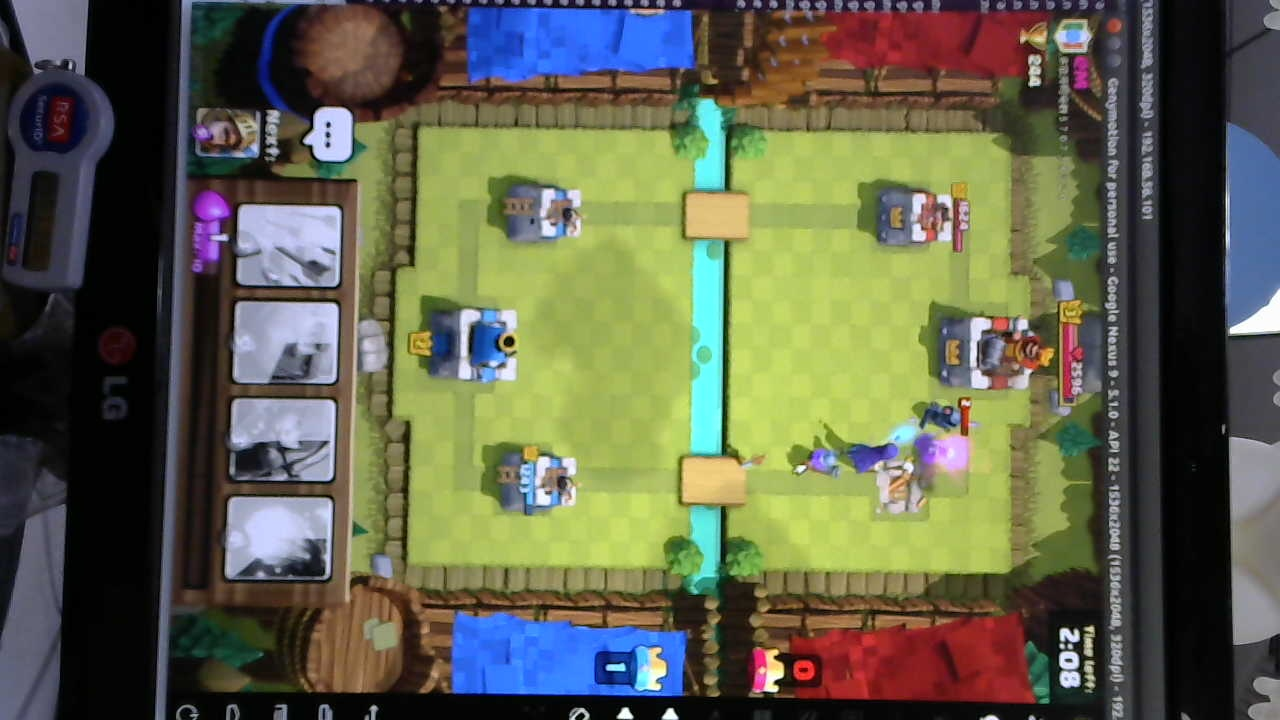arena: (501, 448, 582, 513), (502, 182, 585, 244)
darena: (866, 456, 928, 520)
earena: (871, 185, 954, 250)
eking: (932, 306, 1047, 396)
king: (430, 302, 525, 387)
minipekka: (918, 400, 969, 435)
musketeer: (803, 441, 842, 478)
witch: (851, 441, 919, 469)
